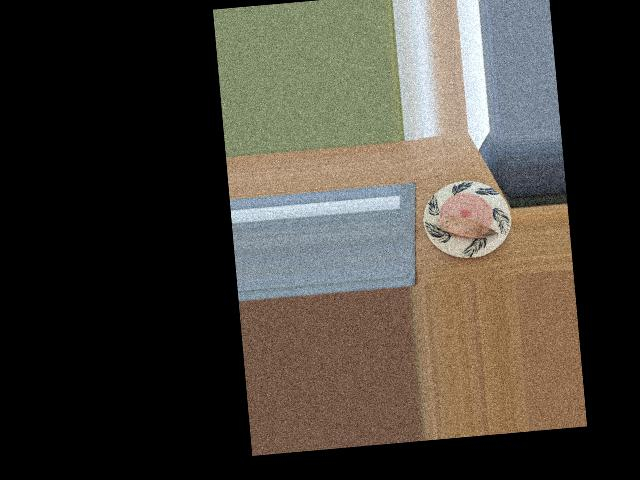sweet_potato: (437, 208, 493, 246)
